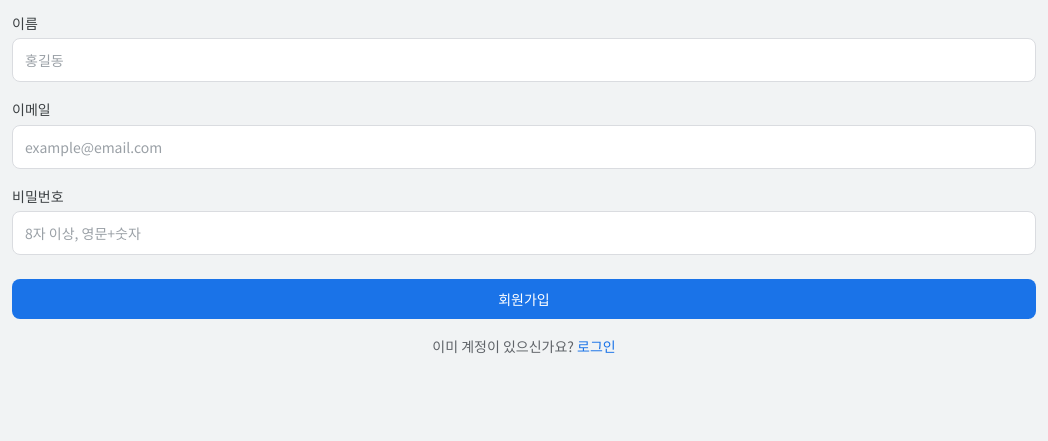
Test: SignupForm › 빈 폼 제출 시 유효성 에러가 표시된다
Click the button "회원가입" at (524, 299), box [12, 279, 1036, 319]
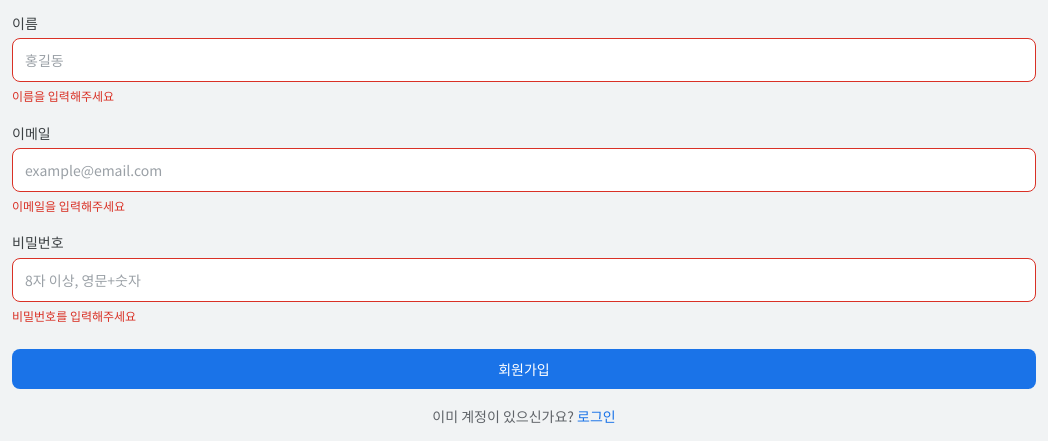
Check: the text "이름을 입력해주세요" is shown, box [12, 87, 114, 104]
